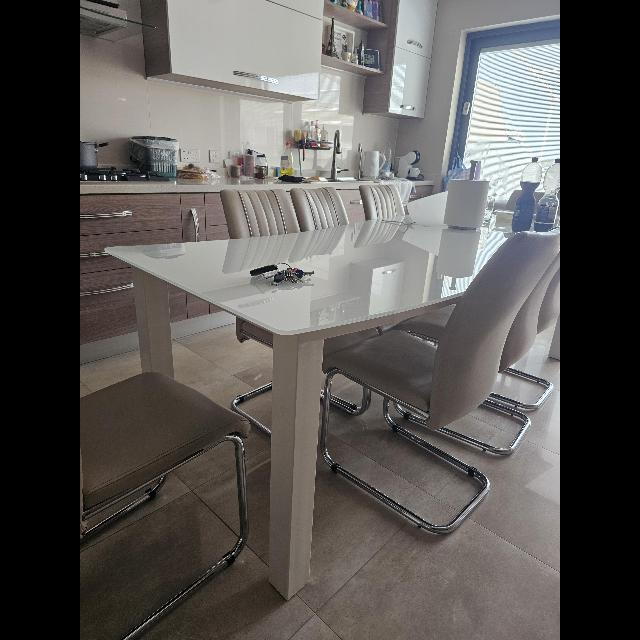Keys: (274, 266, 308, 284)
